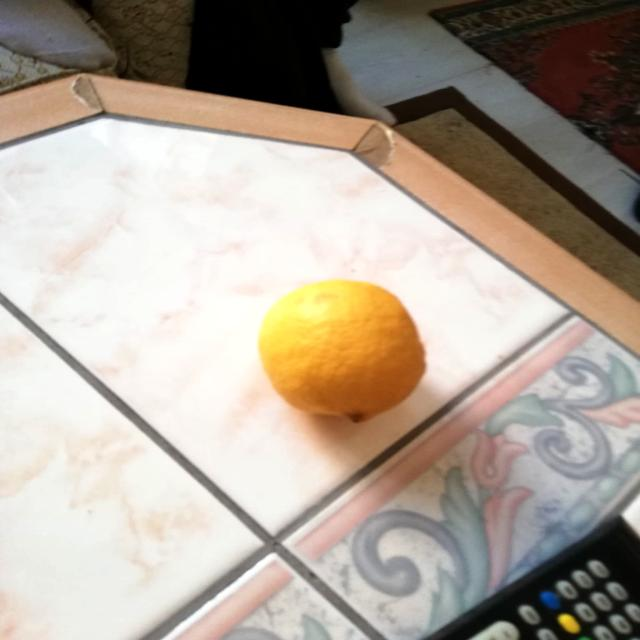lemon: (247, 275, 432, 429)
